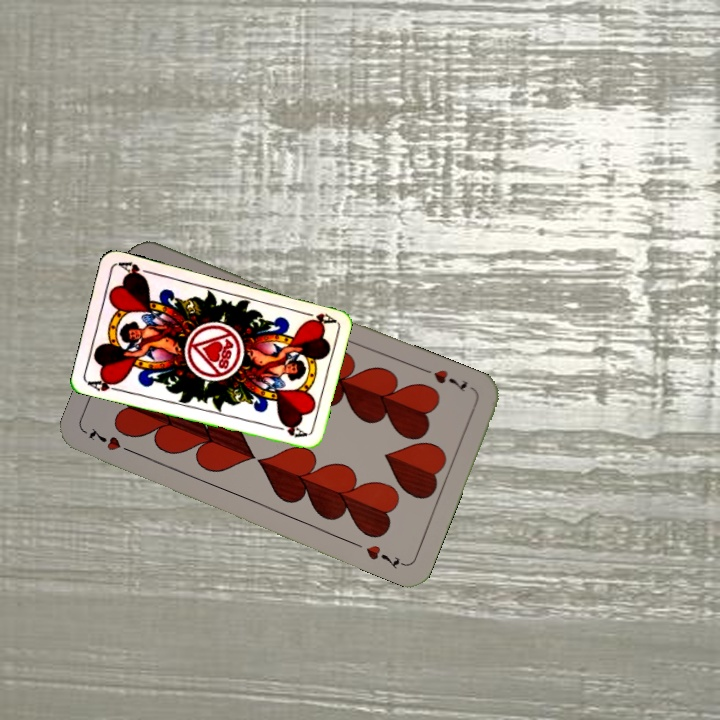H7: (85, 424, 139, 457), (430, 365, 471, 395)
HA: (84, 373, 125, 394), (296, 307, 337, 326)
